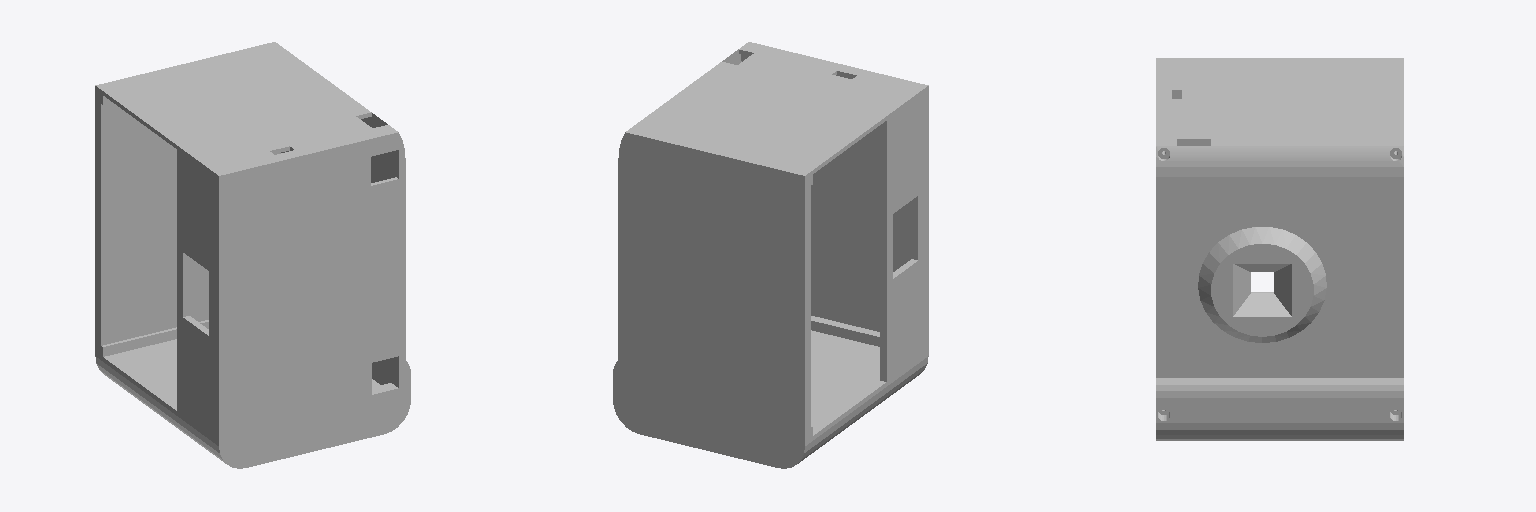
Rendered from camera.obj.
The picture shows the model from 3 angles: view 1: azimuth 30°, elevation 25°; view 2: azimuth 150°, elevation 25°; view 3: azimuth 270°, elevation 25°; orthographic projection.
Visible parts, largest first — view 1: Casing-Sides, Casing-Back, Body10, Casing-Front, Body13, Body12, Body14, Body15; view 2: Casing-Sides, Casing-Back, Body10, Casing-Front, Body12, Body15; view 3: Casing-Front, Casing-Sides, Body10, Casing-Back.
Boxes of the visible parts, <box> form: Casing-Sides: <box>105,42,398,443</box>; Casing-Back: <box>95,84,225,445</box>; Body10: <box>95,356,410,468</box>; Casing-Front: <box>281,113,405,401</box>; Body13: <box>211,128,398,189</box>; Body12: <box>211,383,398,444</box>; Body14: <box>95,320,208,356</box>; Body15: <box>95,43,281,104</box>; Casing-Sides: <box>625,42,918,443</box>; Casing-Back: <box>798,84,928,445</box>; Body10: <box>613,356,928,468</box>; Casing-Front: <box>618,49,741,401</box>; Body12: <box>811,316,928,360</box>; Body15: <box>625,128,812,189</box>; Casing-Front: <box>1156,146,1403,417</box>; Casing-Sides: <box>1156,62,1403,414</box>; Body10: <box>1156,378,1403,440</box>; Casing-Back: <box>1156,58,1403,145</box>.
Size of the model in its own units: 8.85 by 12.78 by 9.6.